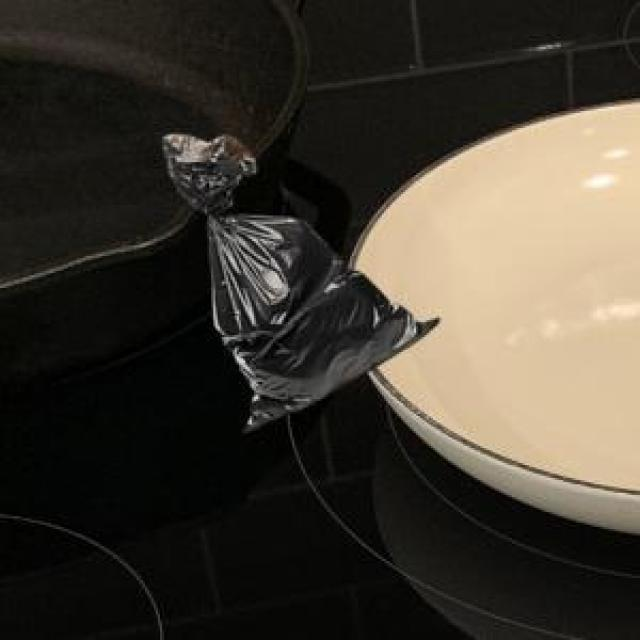Trashbag: (139, 121, 448, 438)
